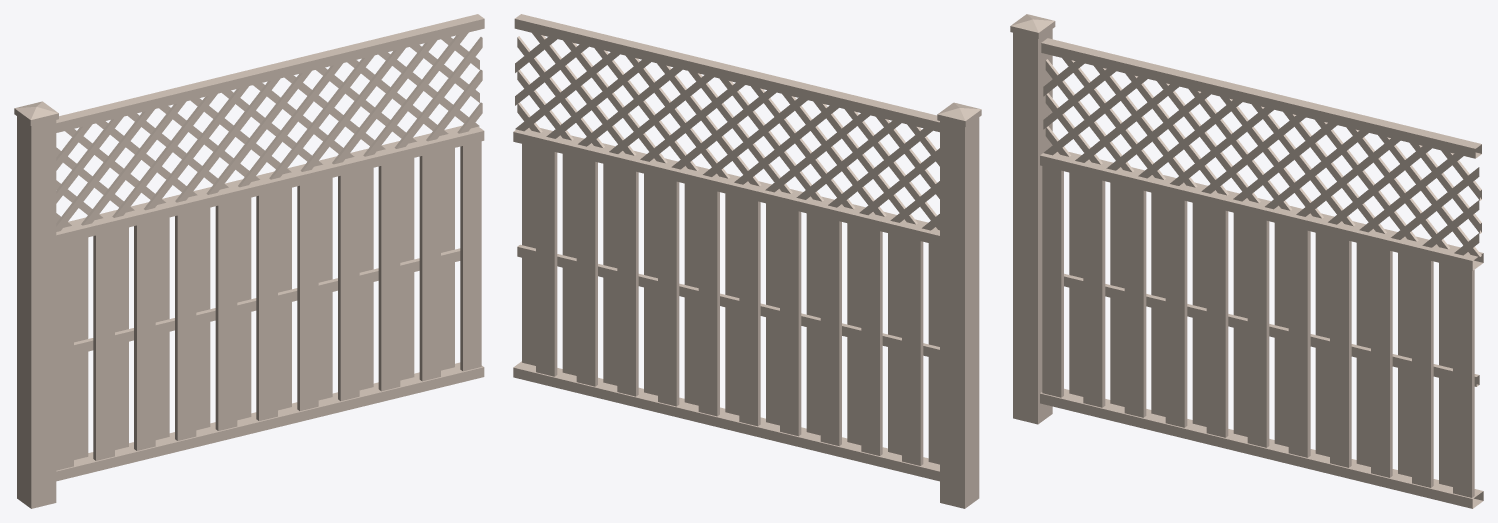
Rendered from fence_panel_lattice.glb.
3 views of the same model, side by side, from view 1: azimuth 30°, elevation 25°; view 2: azimuth 150°, elevation 25°; view 3: azimuth 330°, elevation 25° (orthographic).
Visible parts, largest first — view 1: Geom3D_Fence_Slat_Vert (×21), Geom3D_Fence_Slat_45 (×22), Geom3D_Fence_Slat_Hor. (×3), Geom3D_Fence_Post, Geom3D_Fence_Slat_Hor.2, Geom3D_Fence_Slat_45#1, Geom3D_Fence_Slat_45#4, Geom3D_Fence_Slat_45#2; view 2: Geom3D_Fence_Slat_Vert (×21), Geom3D_Fence_Slat_45 (×22), Geom3D_Fence_Slat_Hor. (×3), Geom3D_Fence_Post, Geom3D_Fence_Slat_Hor.2, Geom3D_Fence_Slat_45#1 (×2), Geom3D_Fence_Slat_45#4 (×2), Geom3D_Fence_Slat_45#2; view 3: Geom3D_Fence_Slat_Vert (×21), Geom3D_Fence_Slat_45 (×22), Geom3D_Fence_Slat_Hor. (×3), Geom3D_Fence_Post, Geom3D_Fence_Slat_Hor.2, Geom3D_Fence_Slat_45#1 (×2), Geom3D_Fence_Slat_45#4 (×2), Geom3D_Fence_Slat_45#2 (×2).
Boxes of the visible parts, left/top/right/bottom form: Geom3D_Fence_Slat_Vert (×21): left=56, top=141, right=481, bottom=470; Geom3D_Fence_Slat_45 (×22): left=56, top=32, right=479, bottom=231; Geom3D_Fence_Slat_Hor. (×3): left=56, top=14, right=484, bottom=481; Geom3D_Fence_Post: left=14, top=101, right=58, bottom=508; Geom3D_Fence_Slat_Hor.2: left=74, top=248, right=460, bottom=354; Geom3D_Fence_Slat_45#1: left=394, top=37, right=482, bottom=148; Geom3D_Fence_Slat_45#4: left=56, top=116, right=123, bottom=203; Geom3D_Fence_Slat_45#2: left=426, top=69, right=482, bottom=141; Geom3D_Fence_Slat_Vert (×21): left=522, top=144, right=939, bottom=465; Geom3D_Fence_Slat_45 (×22): left=515, top=33, right=939, bottom=230; Geom3D_Fence_Slat_Hor. (×3): left=513, top=14, right=939, bottom=481; Geom3D_Fence_Post: left=937, top=102, right=981, bottom=508; Geom3D_Fence_Slat_Hor.2: left=517, top=244, right=939, bottom=359; Geom3D_Fence_Slat_45#1 (×2): left=517, top=36, right=939, bottom=215; Geom3D_Fence_Slat_45#4 (×2): left=515, top=44, right=939, bottom=198; Geom3D_Fence_Slat_45#2: left=517, top=70, right=573, bottom=140; Geom3D_Fence_Slat_Vert (×21): left=1042, top=166, right=1474, bottom=497; Geom3D_Fence_Slat_45 (×22): left=1044, top=58, right=1481, bottom=256; Geom3D_Fence_Slat_Hor. (×3): left=1040, top=38, right=1483, bottom=508; Geom3D_Fence_Post: left=1010, top=14, right=1055, bottom=424; Geom3D_Fence_Slat_Hor.2: left=1064, top=273, right=1479, bottom=386; Geom3D_Fence_Slat_45#1 (×2): left=1045, top=59, right=1479, bottom=239; Geom3D_Fence_Slat_45#4 (×2): left=1043, top=69, right=1481, bottom=233; Geom3D_Fence_Slat_45#2 (×2): left=1045, top=93, right=1479, bottom=247.
Size of the model in its own units: 1.85 by 1.52 by 0.1143.
